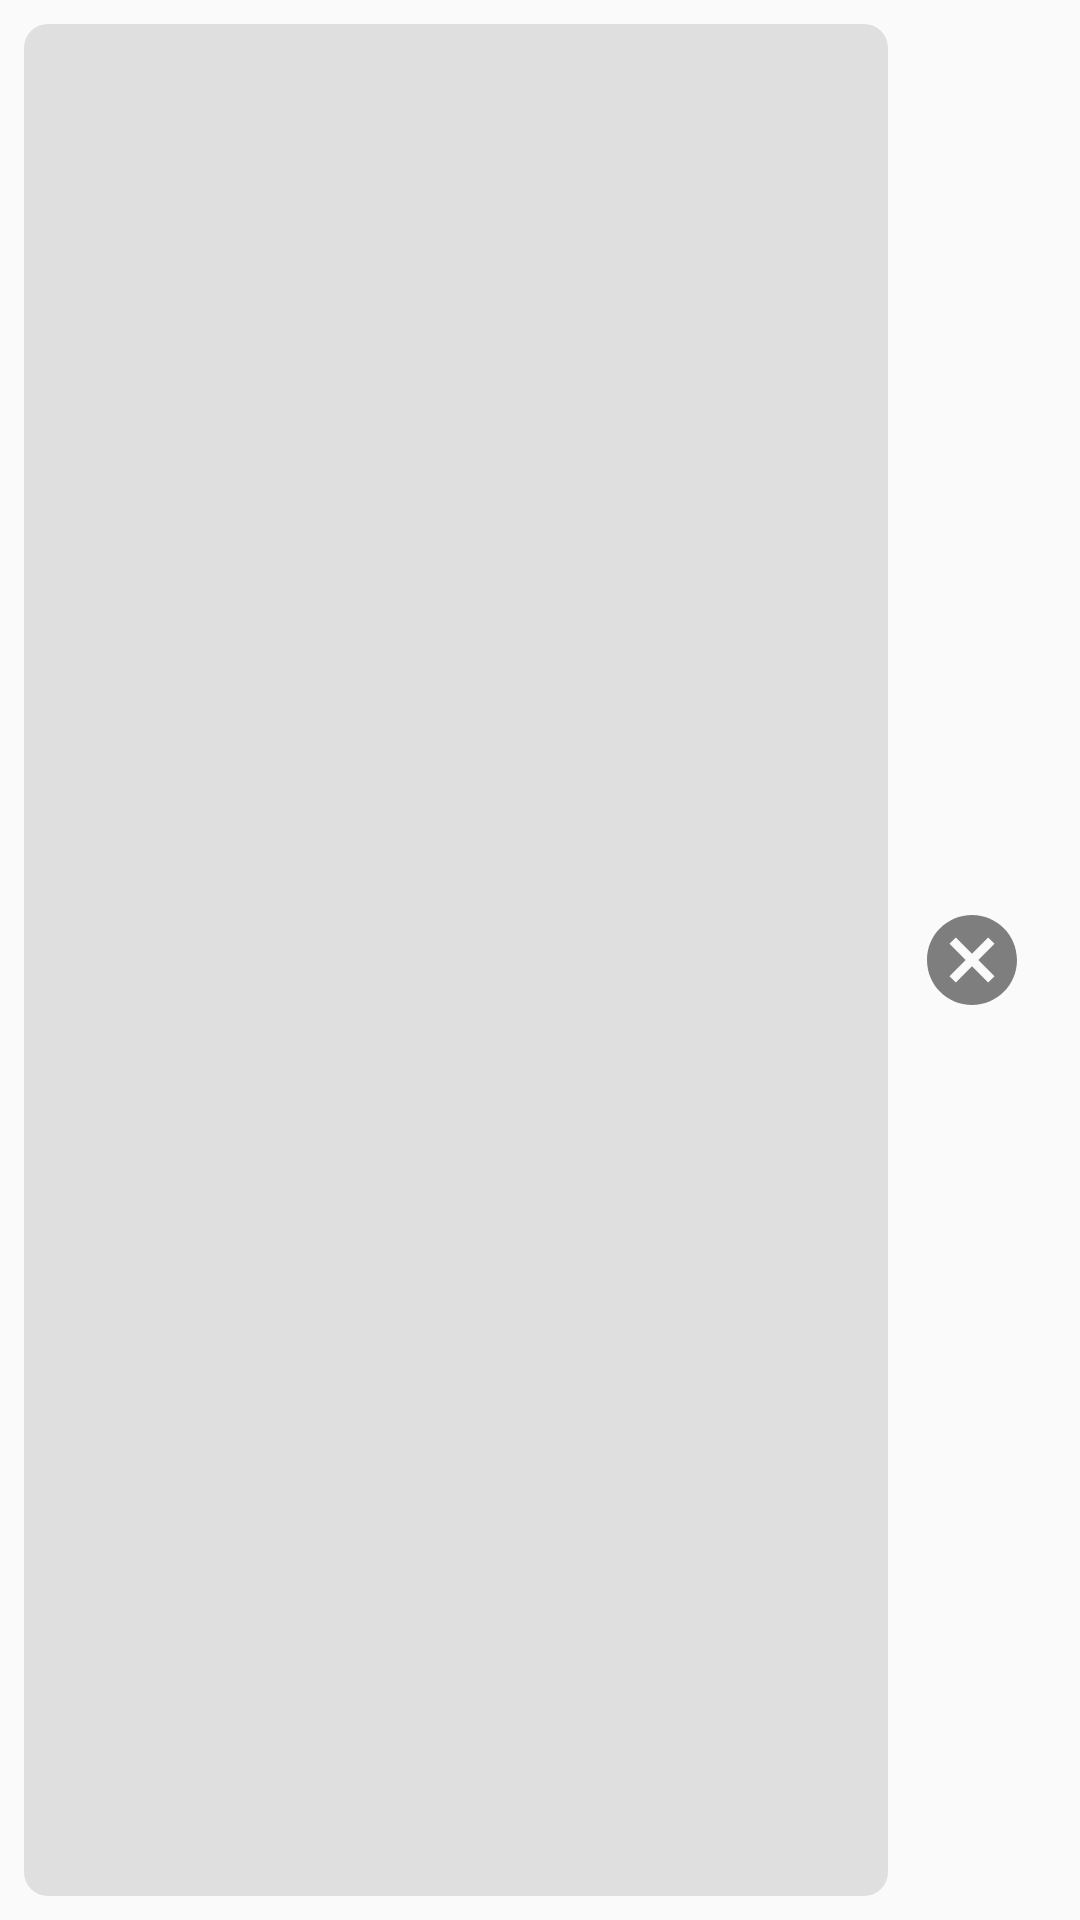

Icon bounding boxes for this 1080*1920 phone screenshot, format rect(x1, y1, x2, y2):
cancel: rect(927, 915, 1017, 1005)
